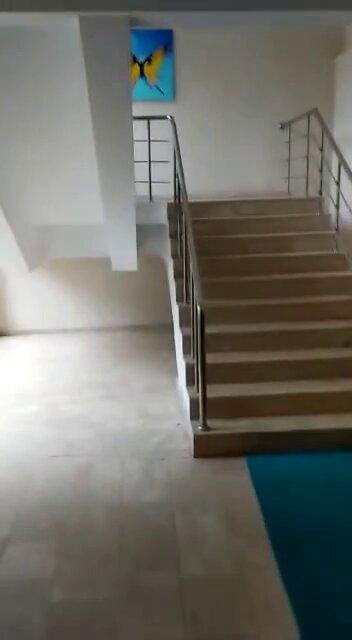Bench: (189, 159, 351, 445)
